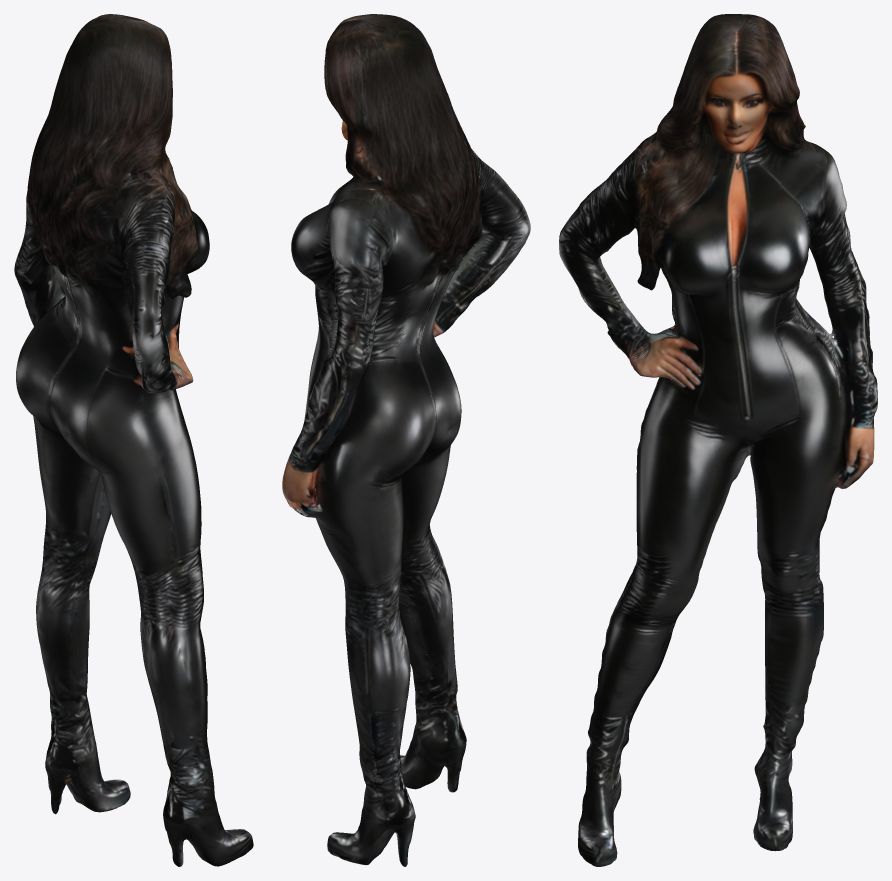
The model's file is biker_model.glb.
The picture shows the model from 3 angles, left to right: view 1: azimuth 30°, elevation 25°; view 2: azimuth 150°, elevation 25°; view 3: azimuth 270°, elevation 25°; orthographic projection. The views are drawn at different scales.
Visible parts, largest first — view 1: tripo_node_fe33fc02-f8c8-4f6f-94f1-accaa3010700_0; view 2: tripo_node_fe33fc02-f8c8-4f6f-94f1-accaa3010700_0; view 3: tripo_node_fe33fc02-f8c8-4f6f-94f1-accaa3010700_0.
Part boxes in pixels (x1,y1,x2,y2): tripo_node_fe33fc02-f8c8-4f6f-94f1-accaa3010700_0: (14,14,253,866); tripo_node_fe33fc02-f8c8-4f6f-94f1-accaa3010700_0: (282,14,530,866); tripo_node_fe33fc02-f8c8-4f6f-94f1-accaa3010700_0: (559,14,877,866).
Size of the model in its own units: 0.1945 by 1 by 0.354.
1 material, 1 textured.
